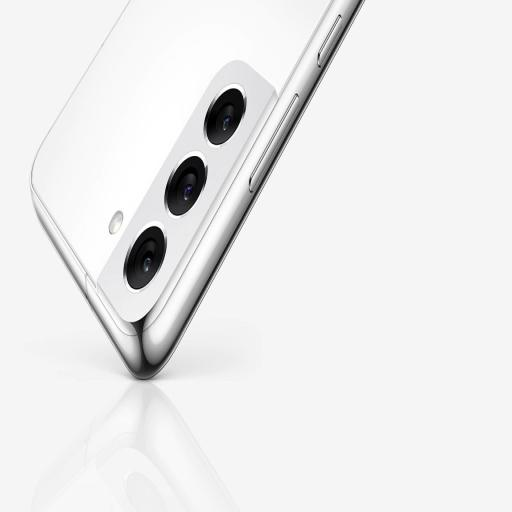phone: (25, 0, 359, 400)
